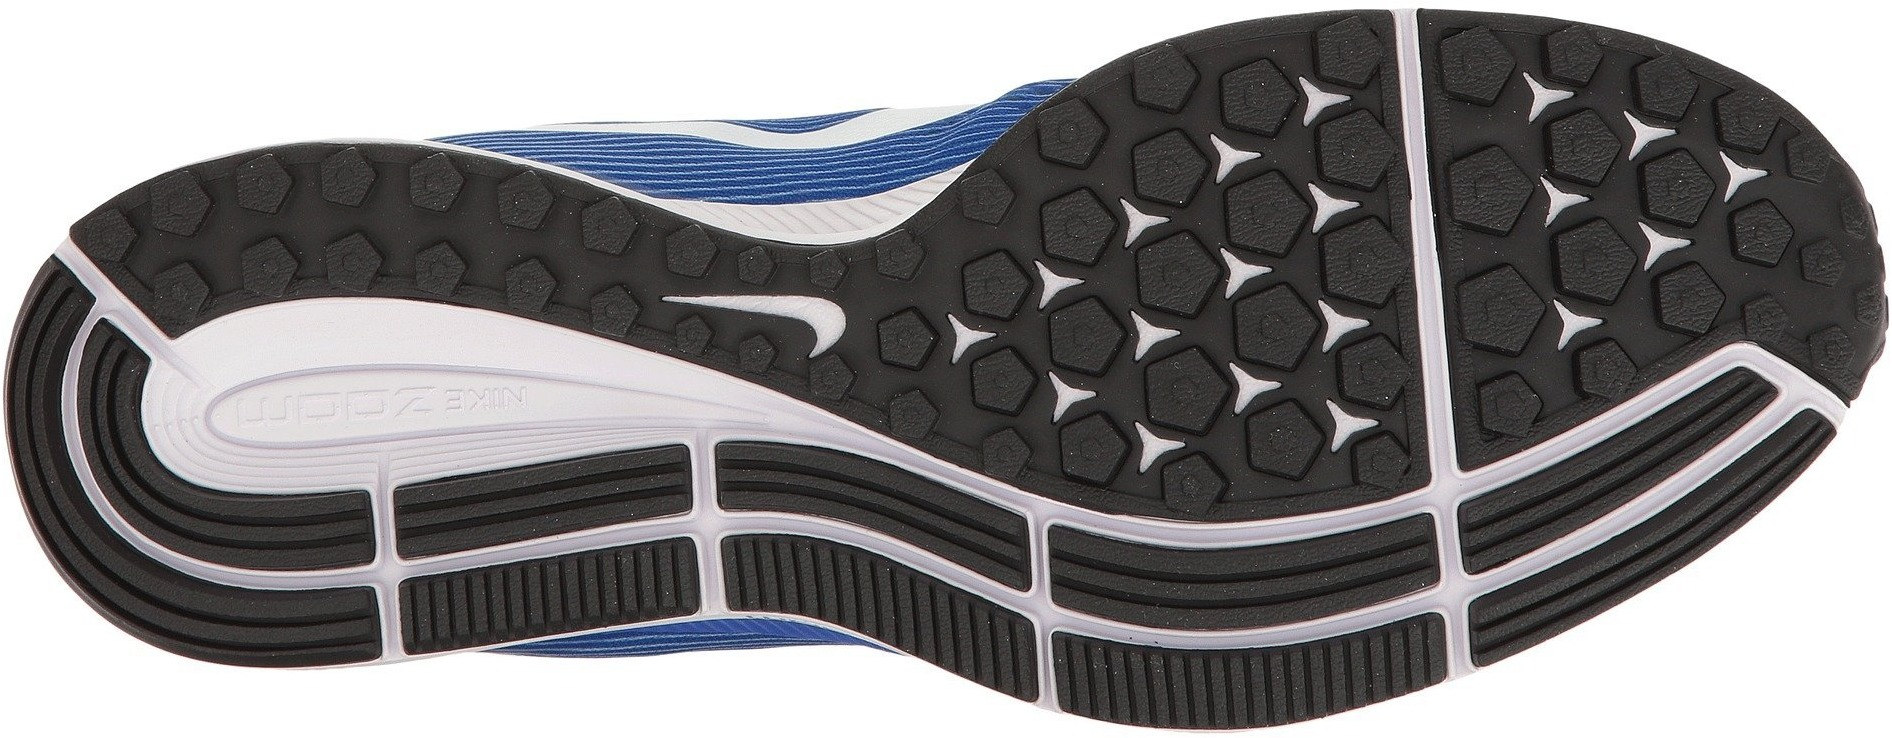circle: (1701, 197, 1857, 388), (308, 137, 473, 295)
line: (1243, 505, 1444, 728), (713, 432, 897, 638), (448, 451, 636, 642), (1701, 197, 1857, 388)
polygon: (1701, 197, 1857, 388), (308, 137, 473, 295)
quad: (1243, 505, 1444, 728), (713, 432, 897, 638), (448, 451, 636, 642)
ribbon: (129, 283, 403, 525), (410, 295, 608, 490)
text: (340, 357, 440, 449), (237, 374, 335, 457), (440, 363, 536, 441)
